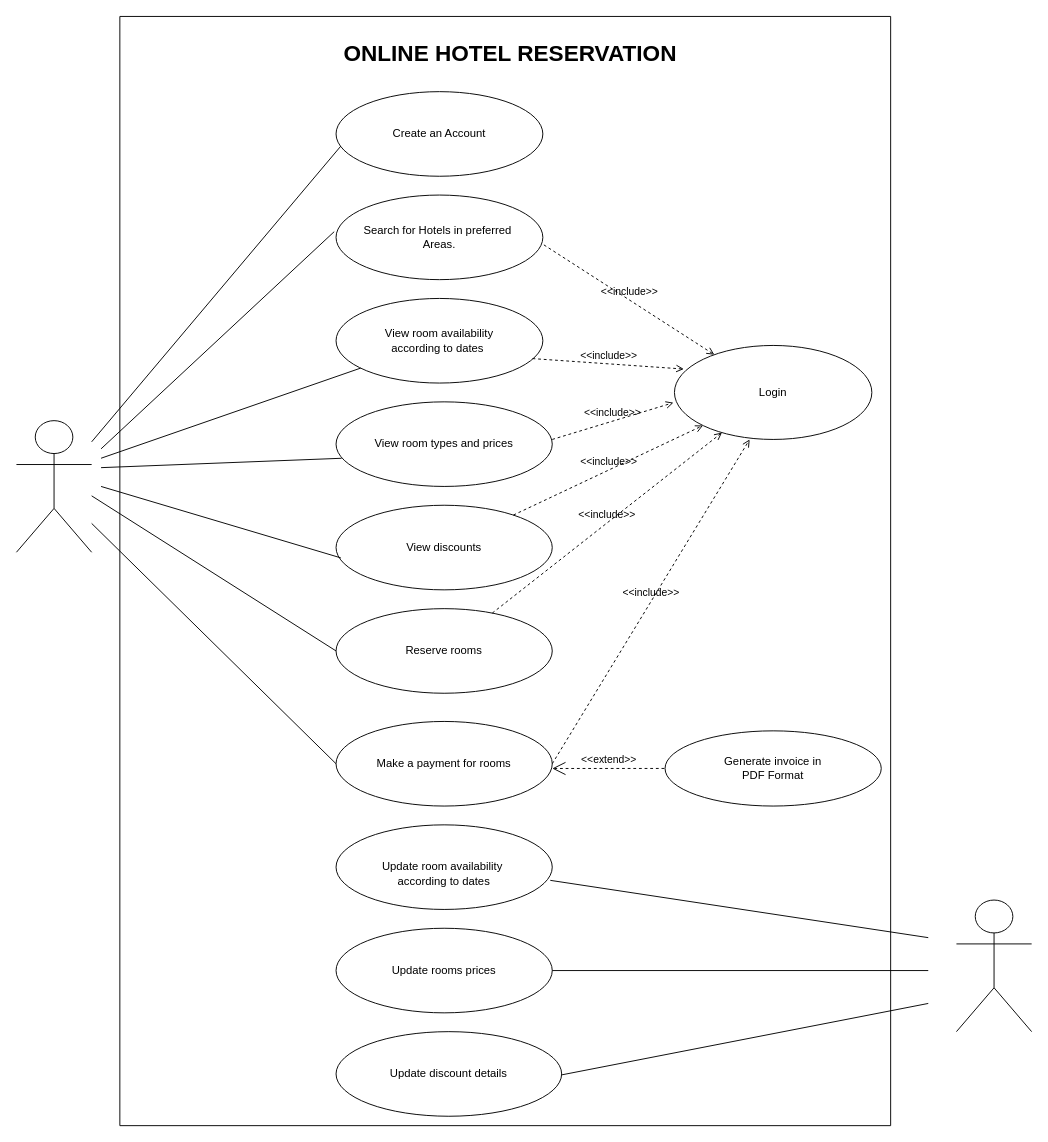
Image size: 1048x1142. Some labels were removed from this diagram. The centre of each missing label's shape, as x and y in pixels:
Customer: [54,486]
System Admin: [994,965]
